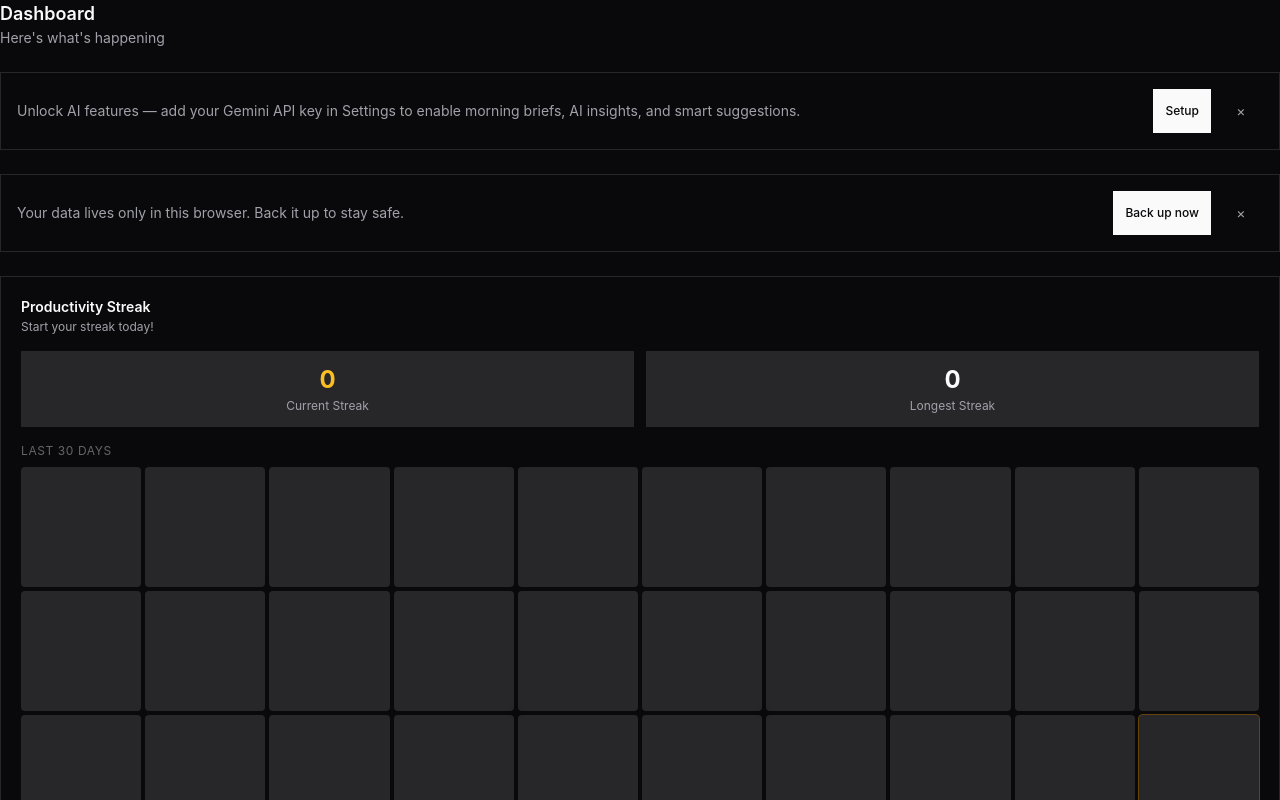
Test: backup nudge dismiss button sets localStorage and hides card
Check: the element with test id "backup-nudge" is shown, box [0,174,1279,252]
Click the button named "Dismiss backup nudge".
click(1241, 213)  # box [1219,191,1263,235]
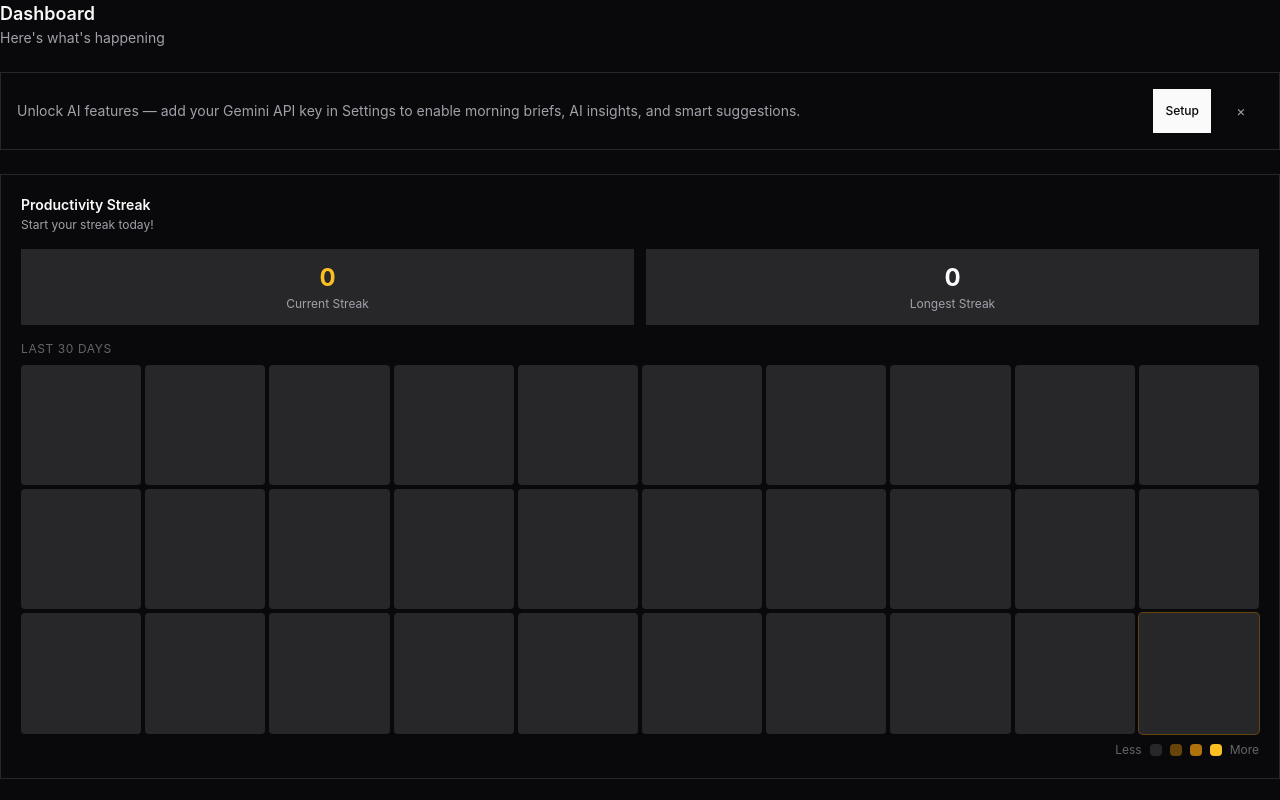
Check: the element with test id "backup-nudge" is gone
